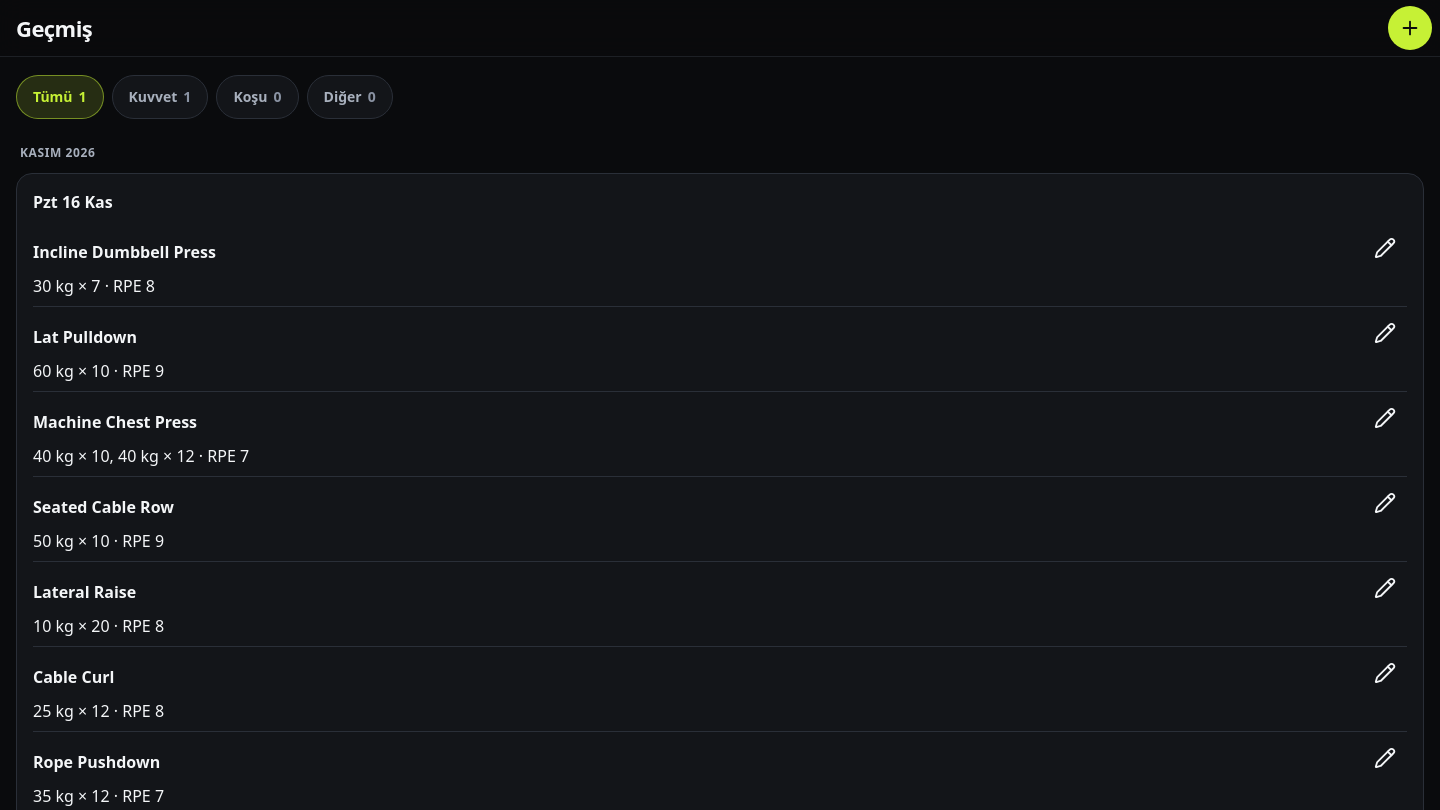
HistoryScreen › shows an empty state when a filter matches nothing
Click the radio button labelled "Koşu 0": (257, 97) 216,75 -> 298,119
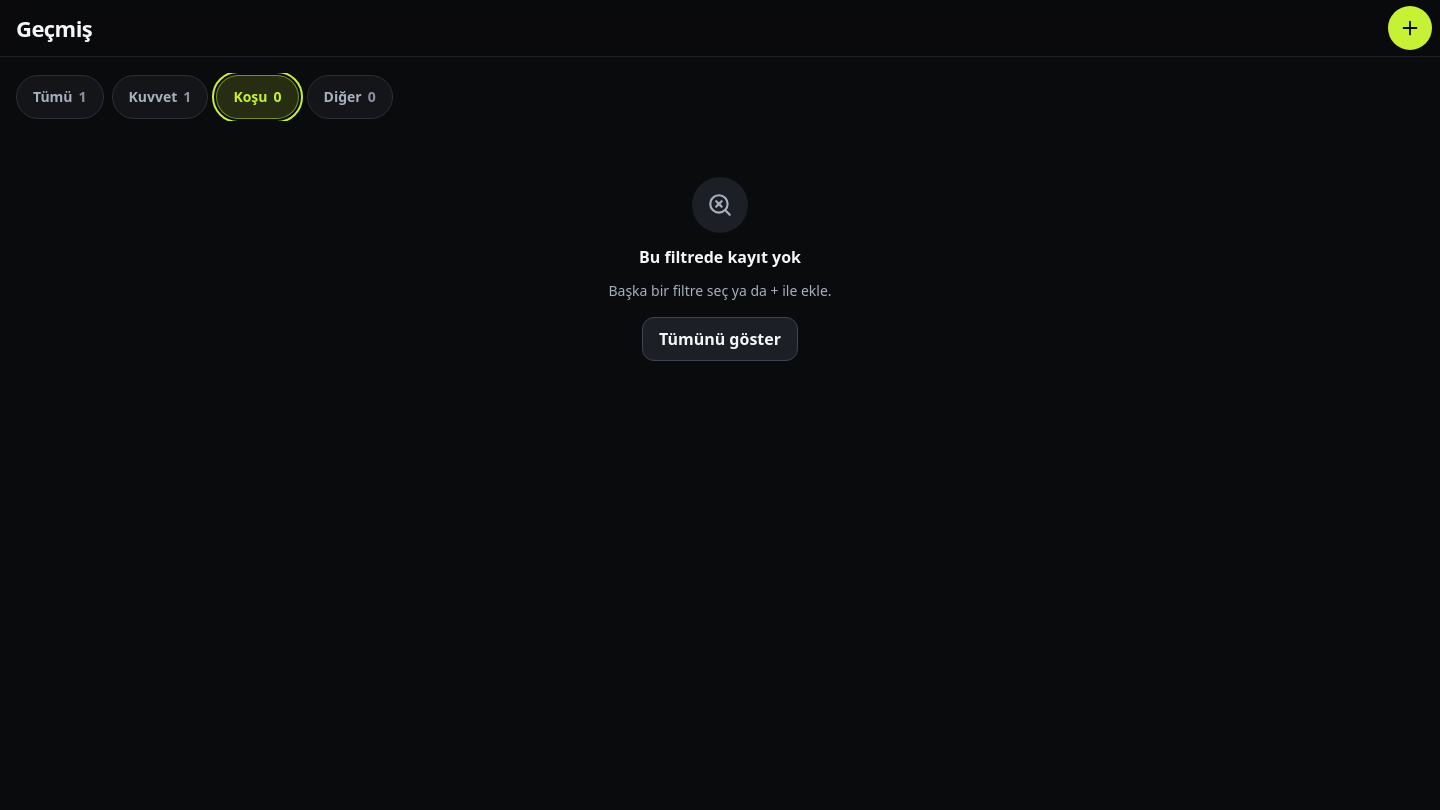
Now the text "Bu filtrede kayıt yok" is shown, box 639,245 -> 801,269
Click the button "Tümünü göster": (720, 339) 642,317 -> 798,361
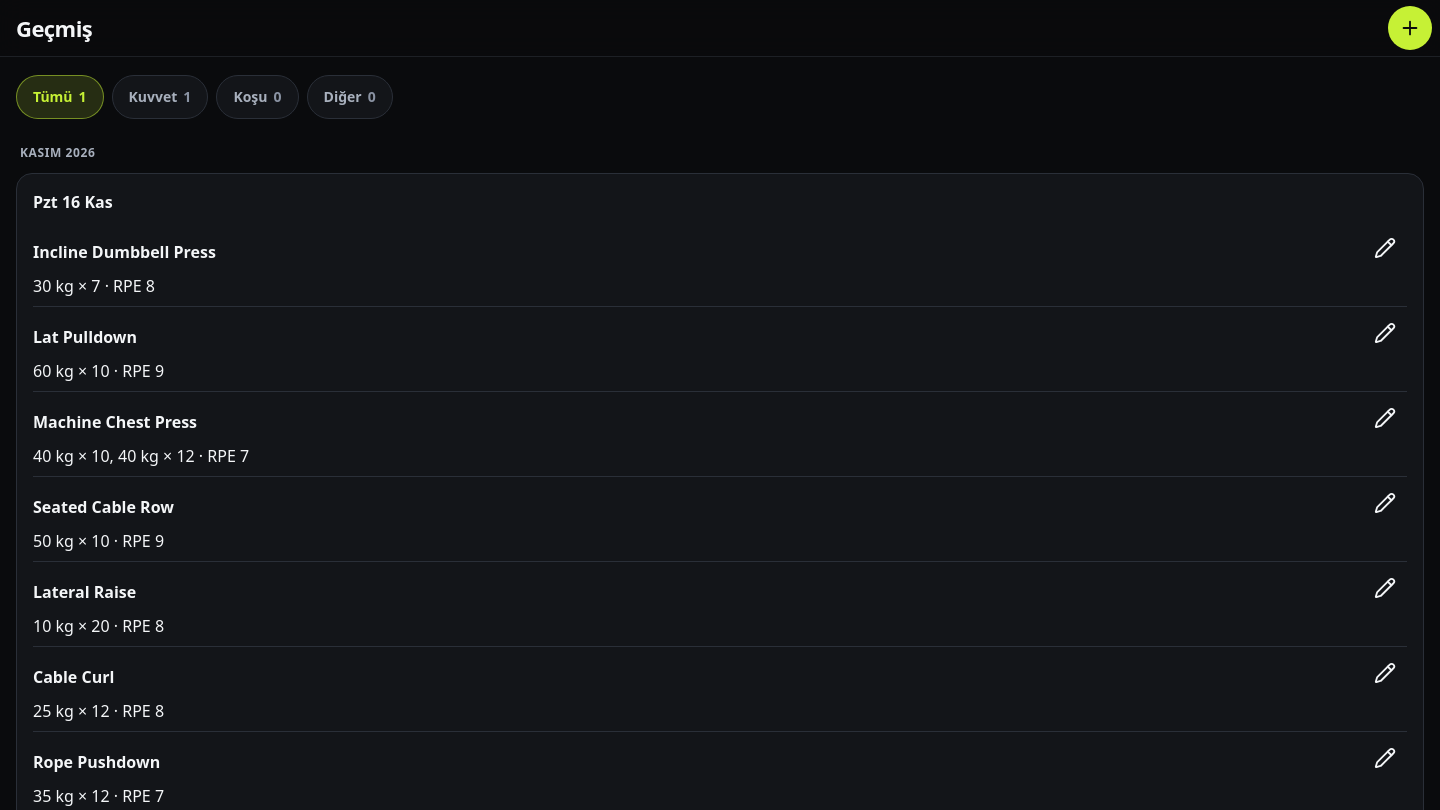
Now the link "Machine Chest Press" is shown, box 33,411 -> 197,433
